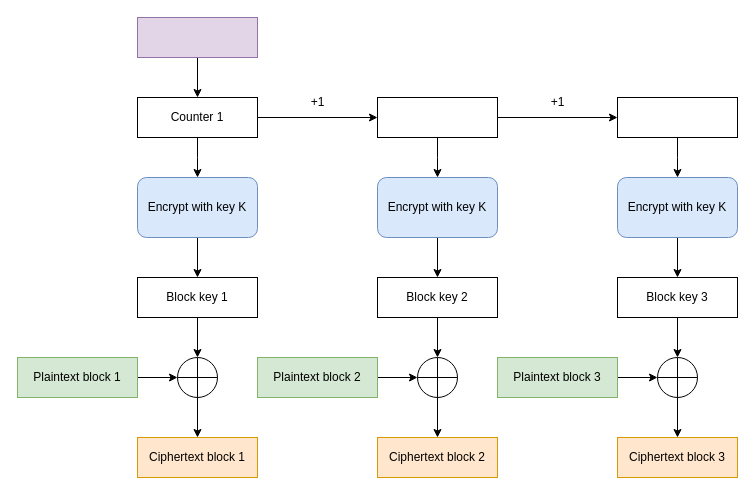
Some shapes in this 755 by 495 pixel diagram are drawn without their labels. The box of each missing label's shape, as (x1, y1, x2, y2) in pixels:
Counter 2: (376, 96, 498, 138)
Counter 3: (616, 96, 738, 138)
Nonce/IV: (136, 16, 258, 58)
